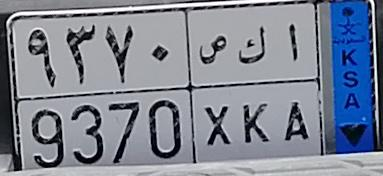0: (147, 45, 180, 160)
3: (66, 24, 105, 165)
7: (105, 22, 140, 164)
9: (27, 28, 65, 169)
A: (283, 23, 311, 141)
K: (238, 23, 271, 143)
X: (199, 35, 233, 145)
